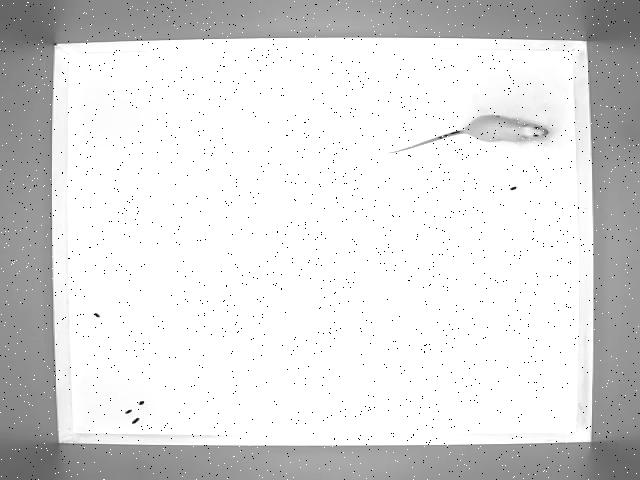Tikus: (390, 100, 554, 162)
